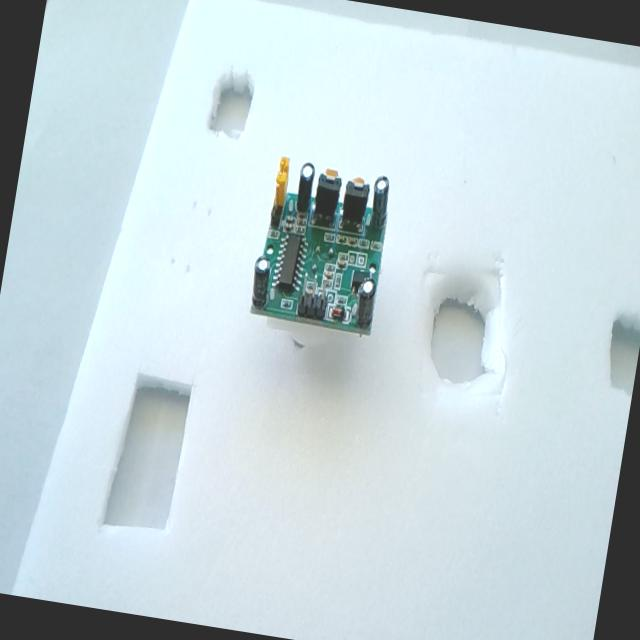Electrolytic capacitor: (346, 270, 382, 340), (363, 171, 395, 242), (247, 248, 275, 316), (292, 158, 317, 230)
IC: (270, 226, 312, 299)
